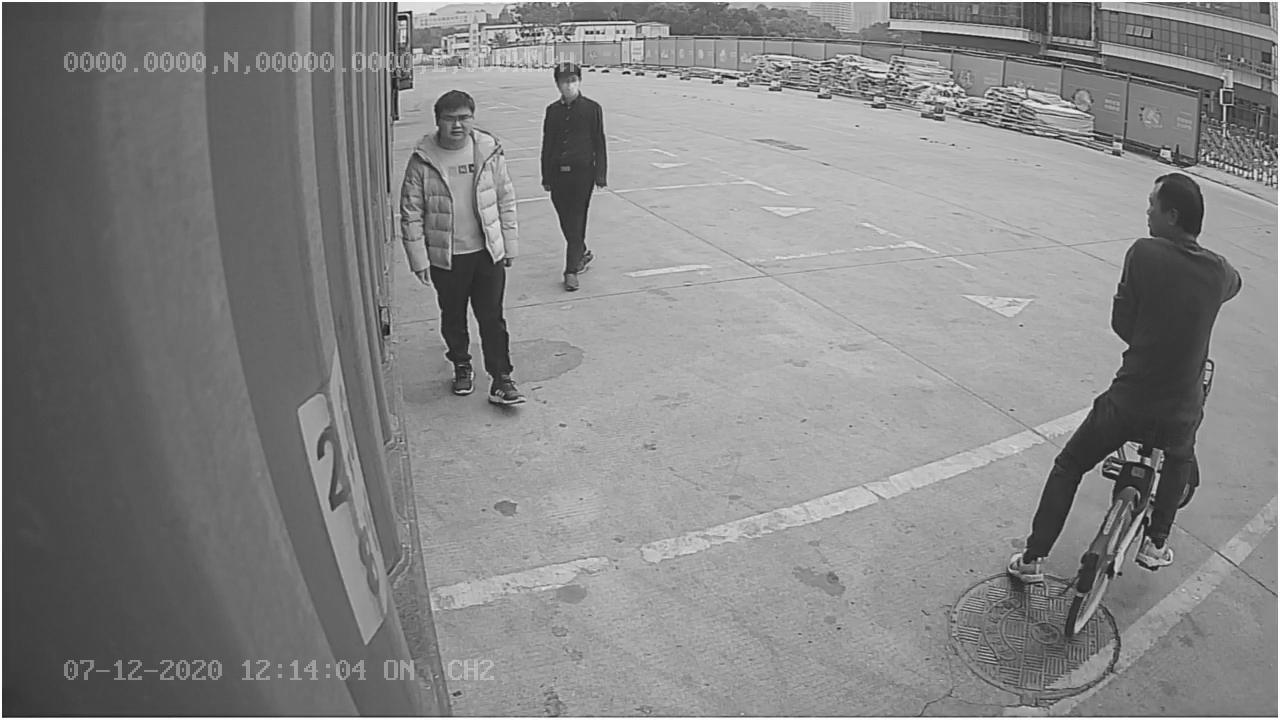person: (531, 64, 610, 293)
